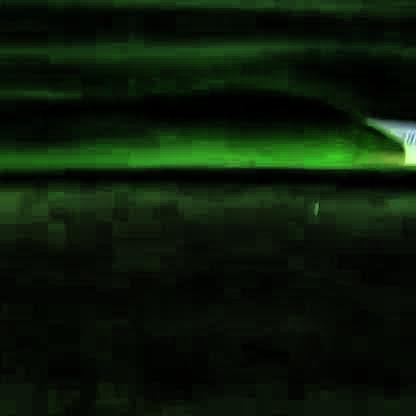golfball: (309, 197, 319, 210)
